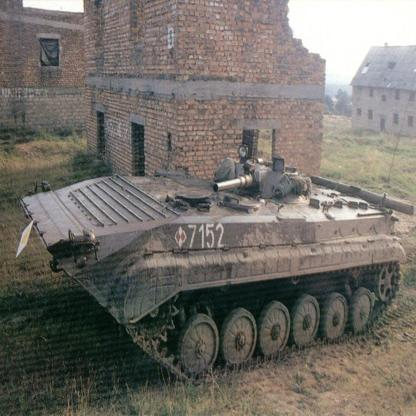Tank: (13, 149, 406, 381)
